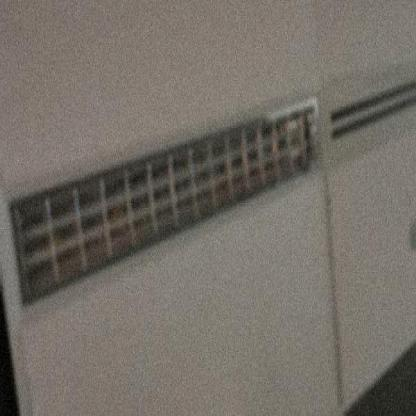light_off: (6, 84, 328, 312)
